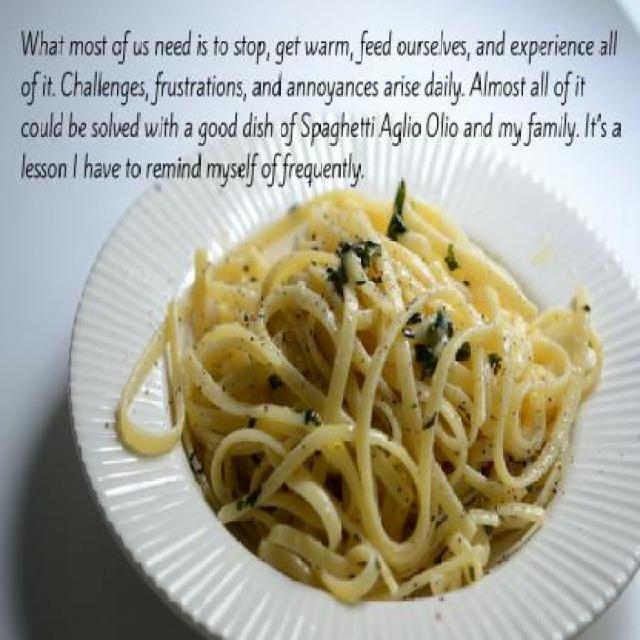Oil pasta: (148, 200, 568, 640)
